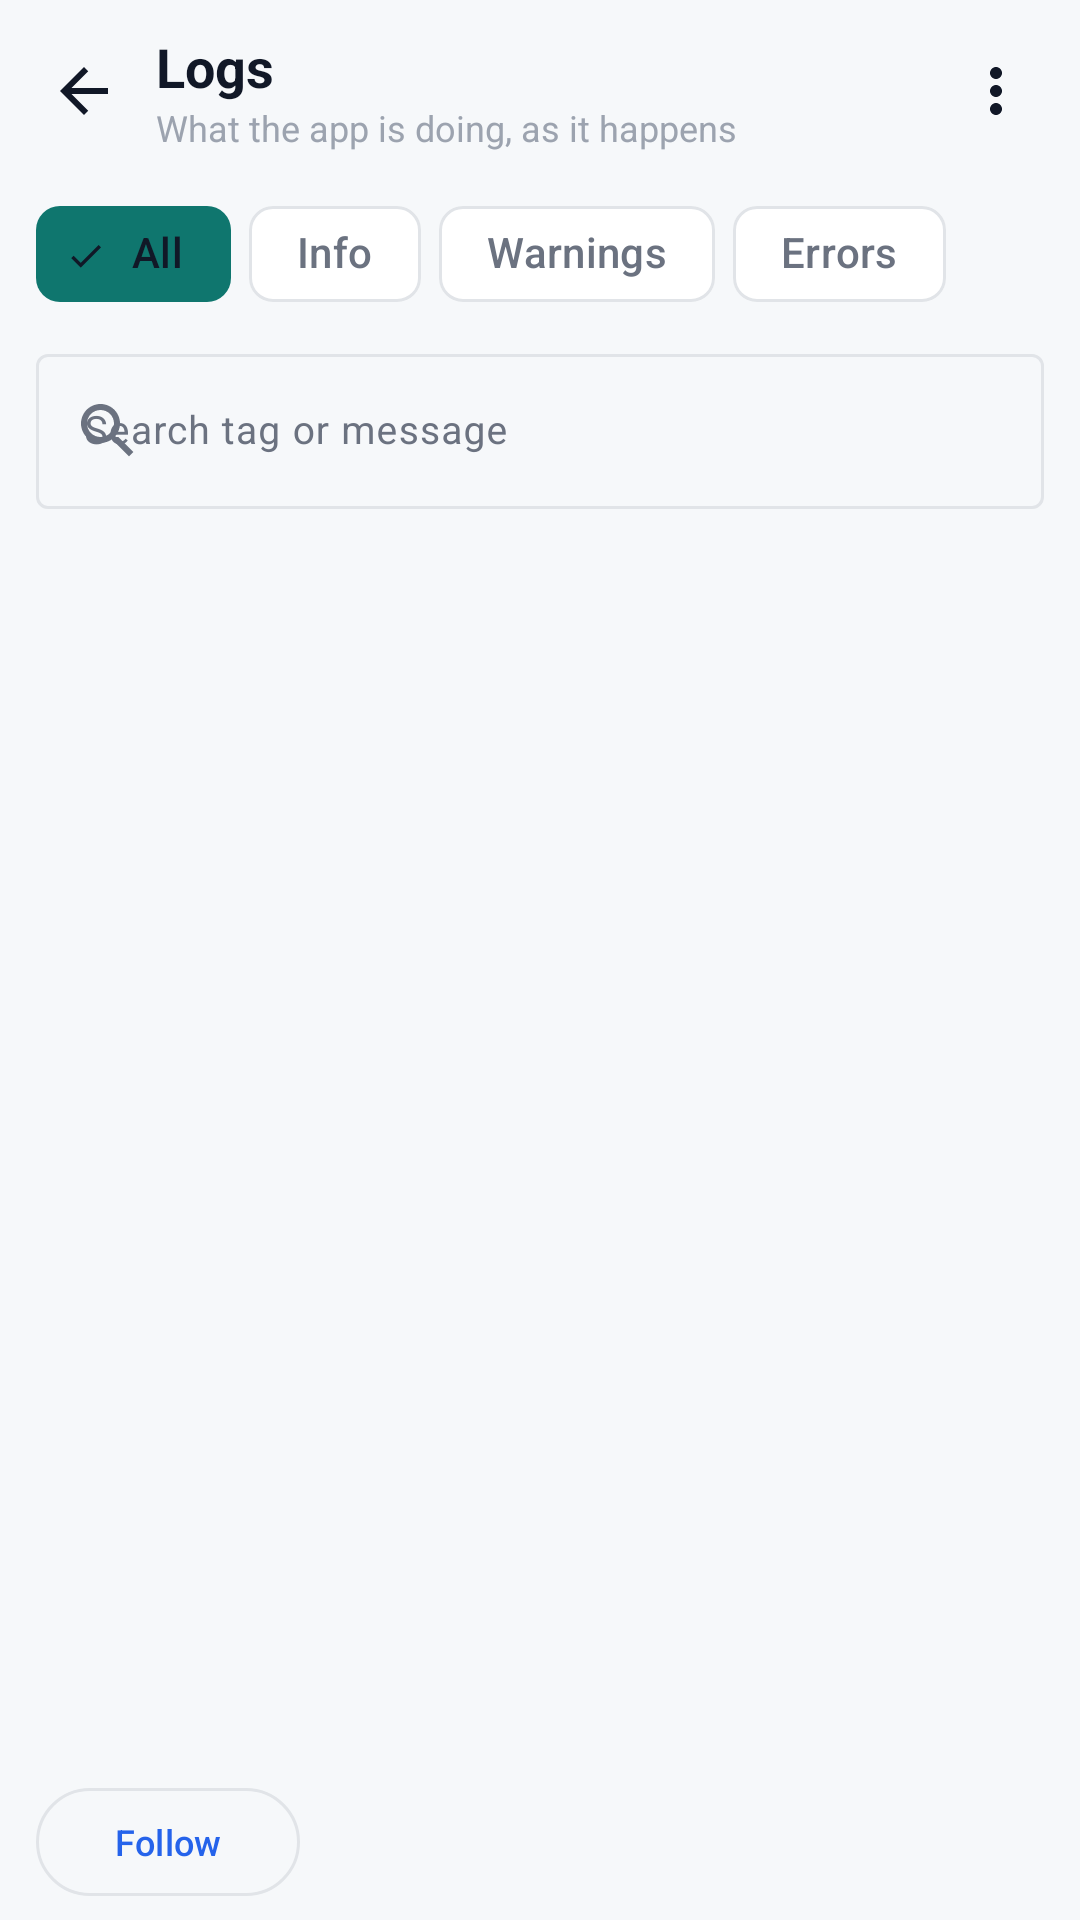

Screen size 1080×1920. Icon name, then its box in pixels as [x1,y1,x2,y2]:
Back: [60,67,108,115]
More options: [990,67,1002,115]
